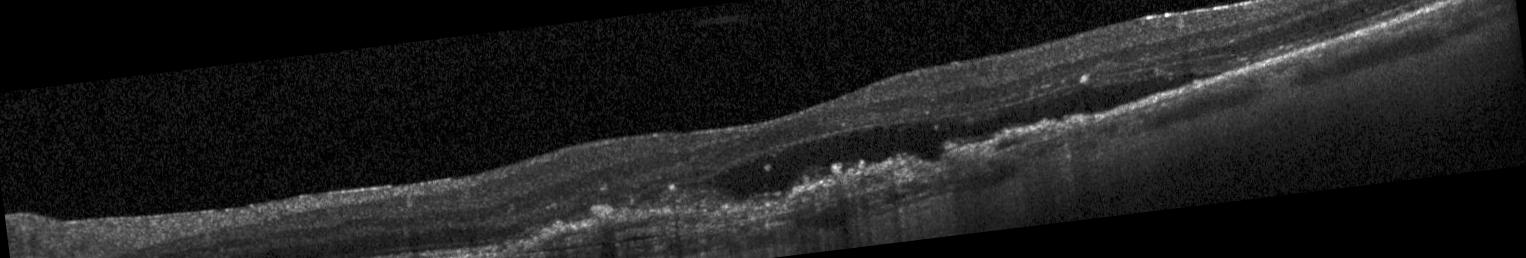neuroepithelium_detachment: (710, 71, 1220, 197)
subretinal_hyperreflective_material: (504, 112, 1106, 254)
